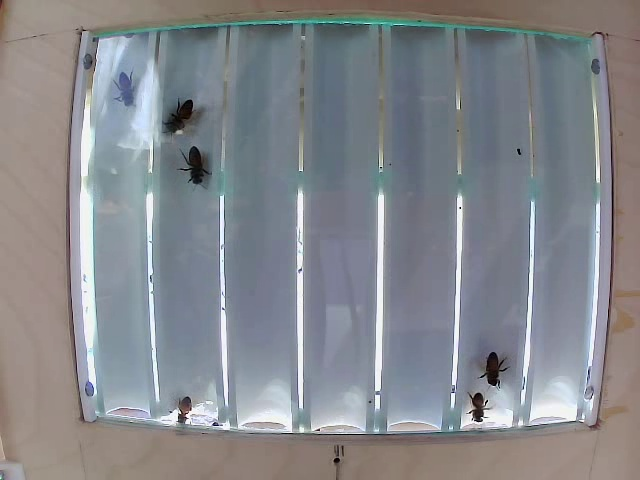bee: (100, 71, 164, 131), (467, 348, 523, 399), (156, 103, 209, 141), (182, 143, 216, 195)
